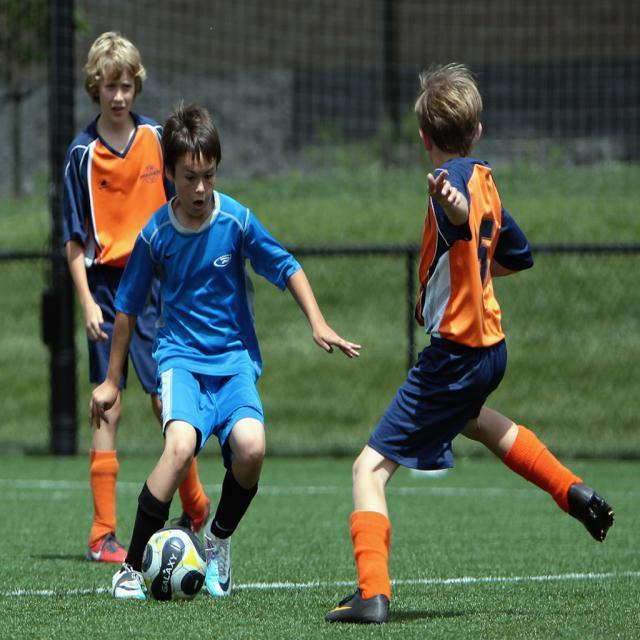ball: (141, 526, 208, 604)
